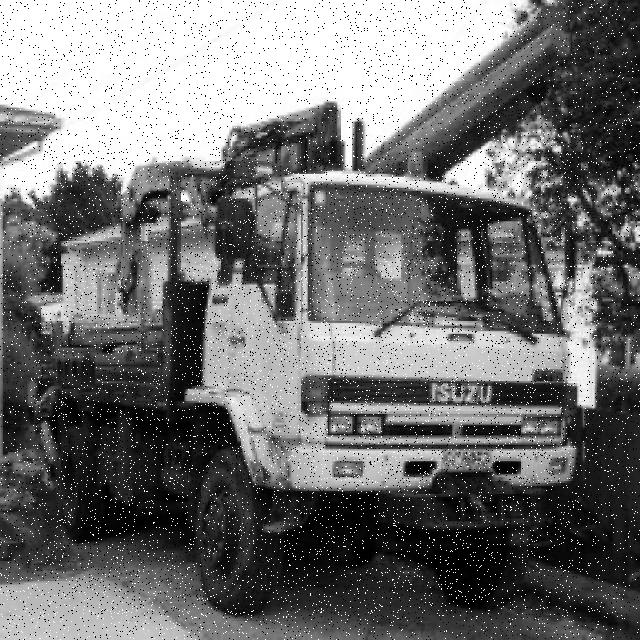Truck- 2-Axle: (31, 151, 576, 618)
